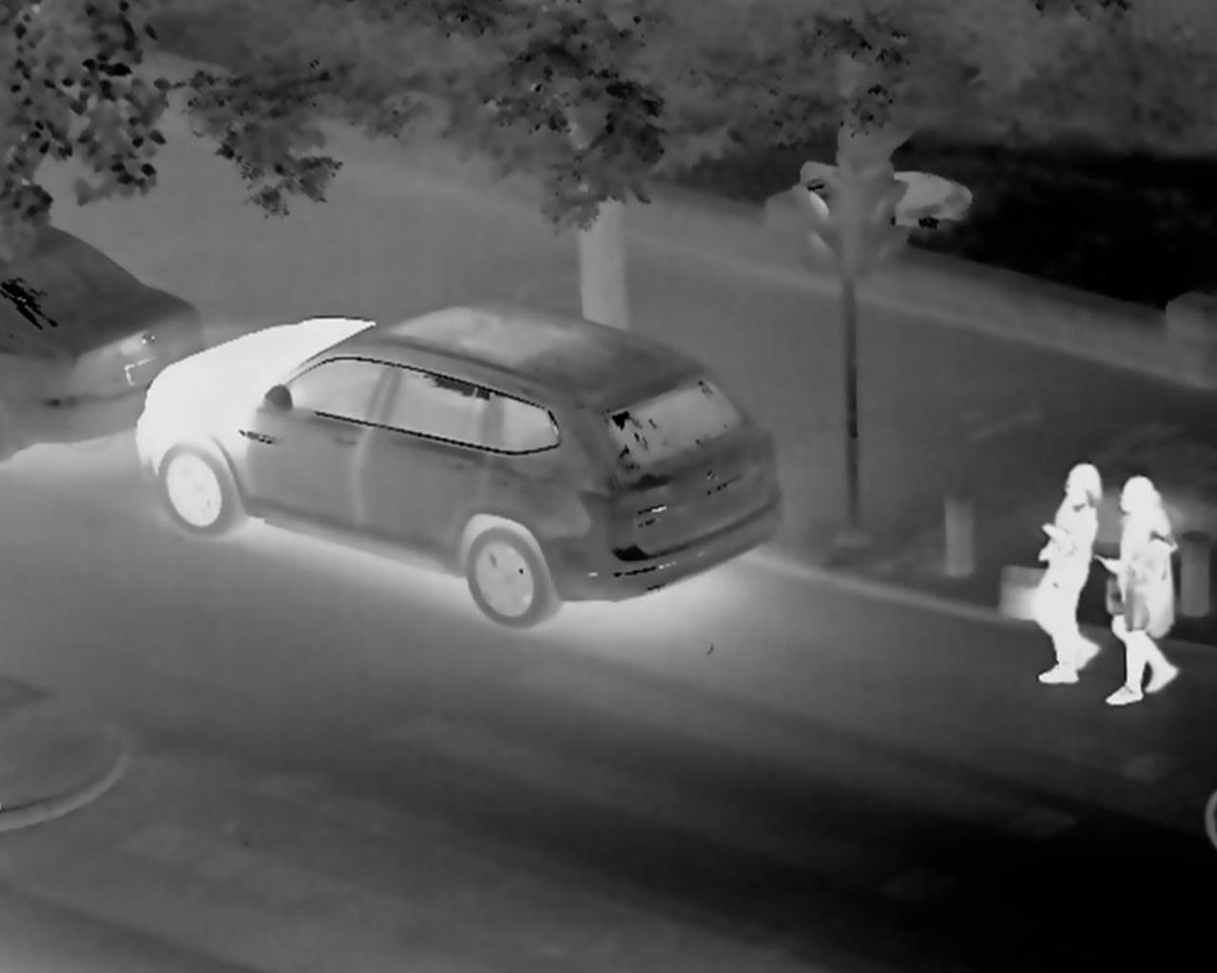person: (1104, 457, 1182, 740), (1024, 449, 1079, 683)
